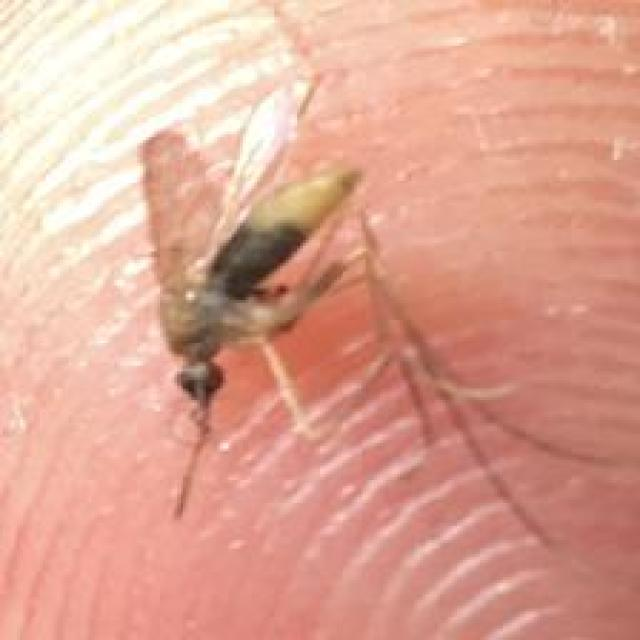Culex: (133, 79, 373, 518)
